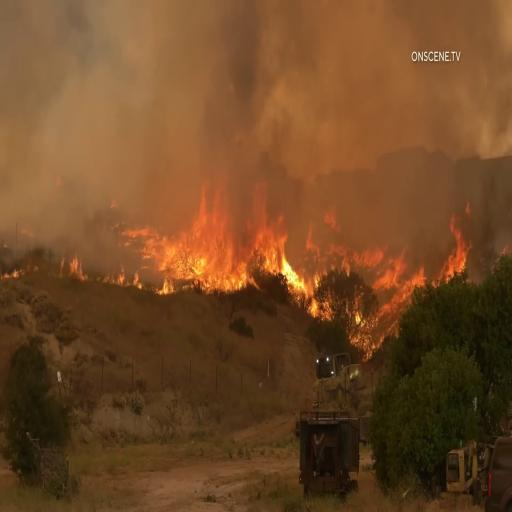fire: (236, 164, 295, 284), (190, 168, 236, 292), (378, 231, 412, 313), (443, 209, 477, 279)
smoke: (480, 178, 503, 252)
